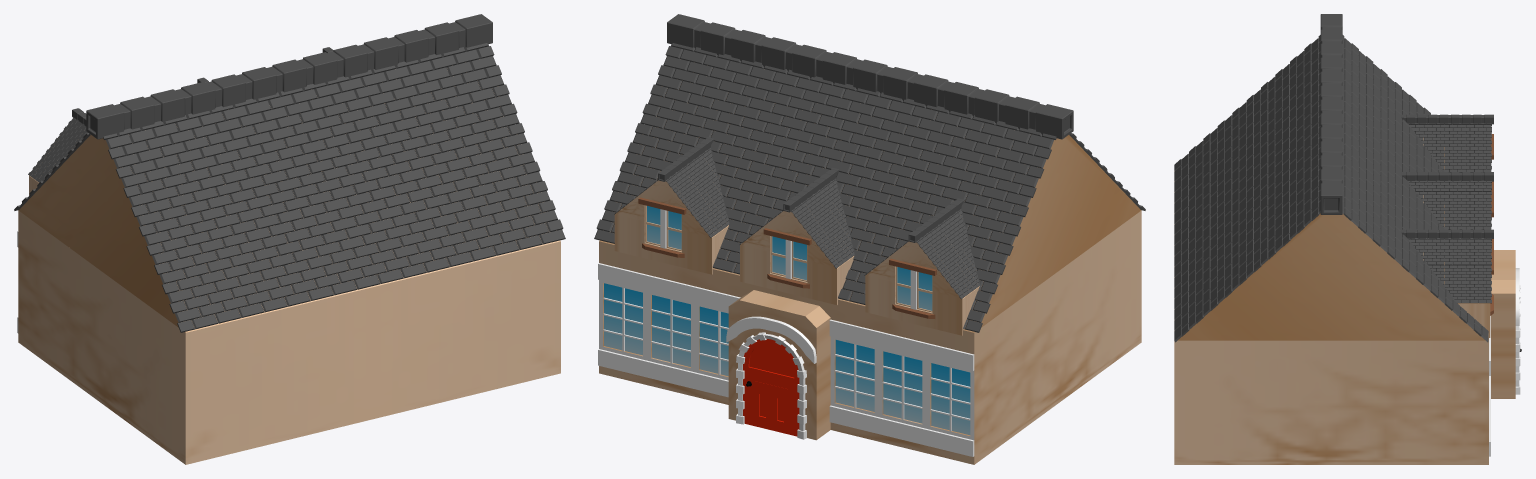
Rendered from house7.fbx.
3 renders of one model, left to right at view 1: azimuth 30°, elevation 25°; view 2: azimuth 150°, elevation 25°; view 3: azimuth 270°, elevation 25°, orthographic. The views are drawn at different scales.
Visible parts, largest first — view 1: Cube.064; view 2: Cube.064, Cube.065; view 3: Cube.064.
Boxes of the visible parts, bbox=[...] form: Cube.064: bbox=[14, 14, 565, 464]; Cube.064: bbox=[594, 14, 1145, 464]; Cube.065: bbox=[743, 339, 799, 436]; Cube.064: bbox=[1174, 14, 1520, 464].
Size of the model in its own units: 608 by 428 by 491.
Materials: 7 (3 with a texture image).
